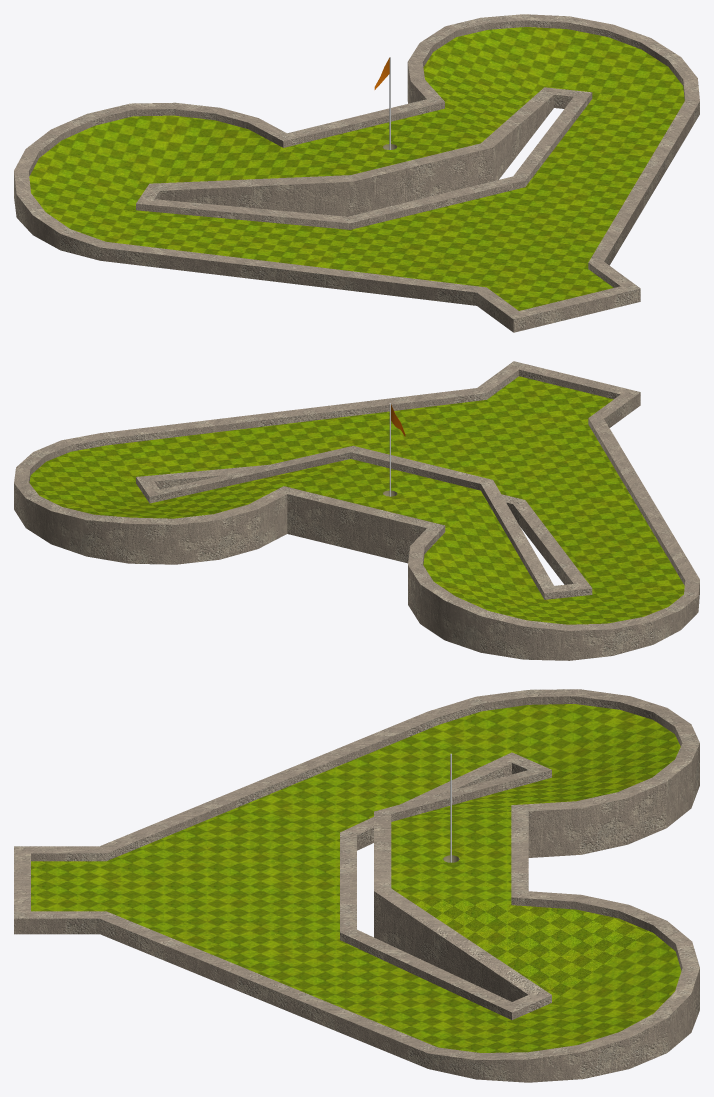
Rendered from course4_hole11.fbx.
3 renders of one model, top to bottom at view 1: azimuth 30°, elevation 25°; view 2: azimuth 150°, elevation 25°; view 3: azimuth 270°, elevation 25°, orthographic. The views are drawn at different scales.
Visible parts, largest first — view 1: course4_hole11_ground, course4_hole11_walls; view 2: course4_hole11_ground, course4_hole11_walls; view 3: course4_hole11_ground, course4_hole11_walls.
Boxes of the visible parts, x1,y1,x2,y2 form: course4_hole11_ground: (29, 27, 684, 310); course4_hole11_walls: (14, 14, 699, 332); course4_hole11_ground: (29, 376, 684, 624); course4_hole11_walls: (14, 361, 699, 660); course4_hole11_ground: (31, 704, 681, 1052); course4_hole11_walls: (14, 689, 699, 1082).
Bounding box in the file's own units: 510 × 92.54 × 400.
